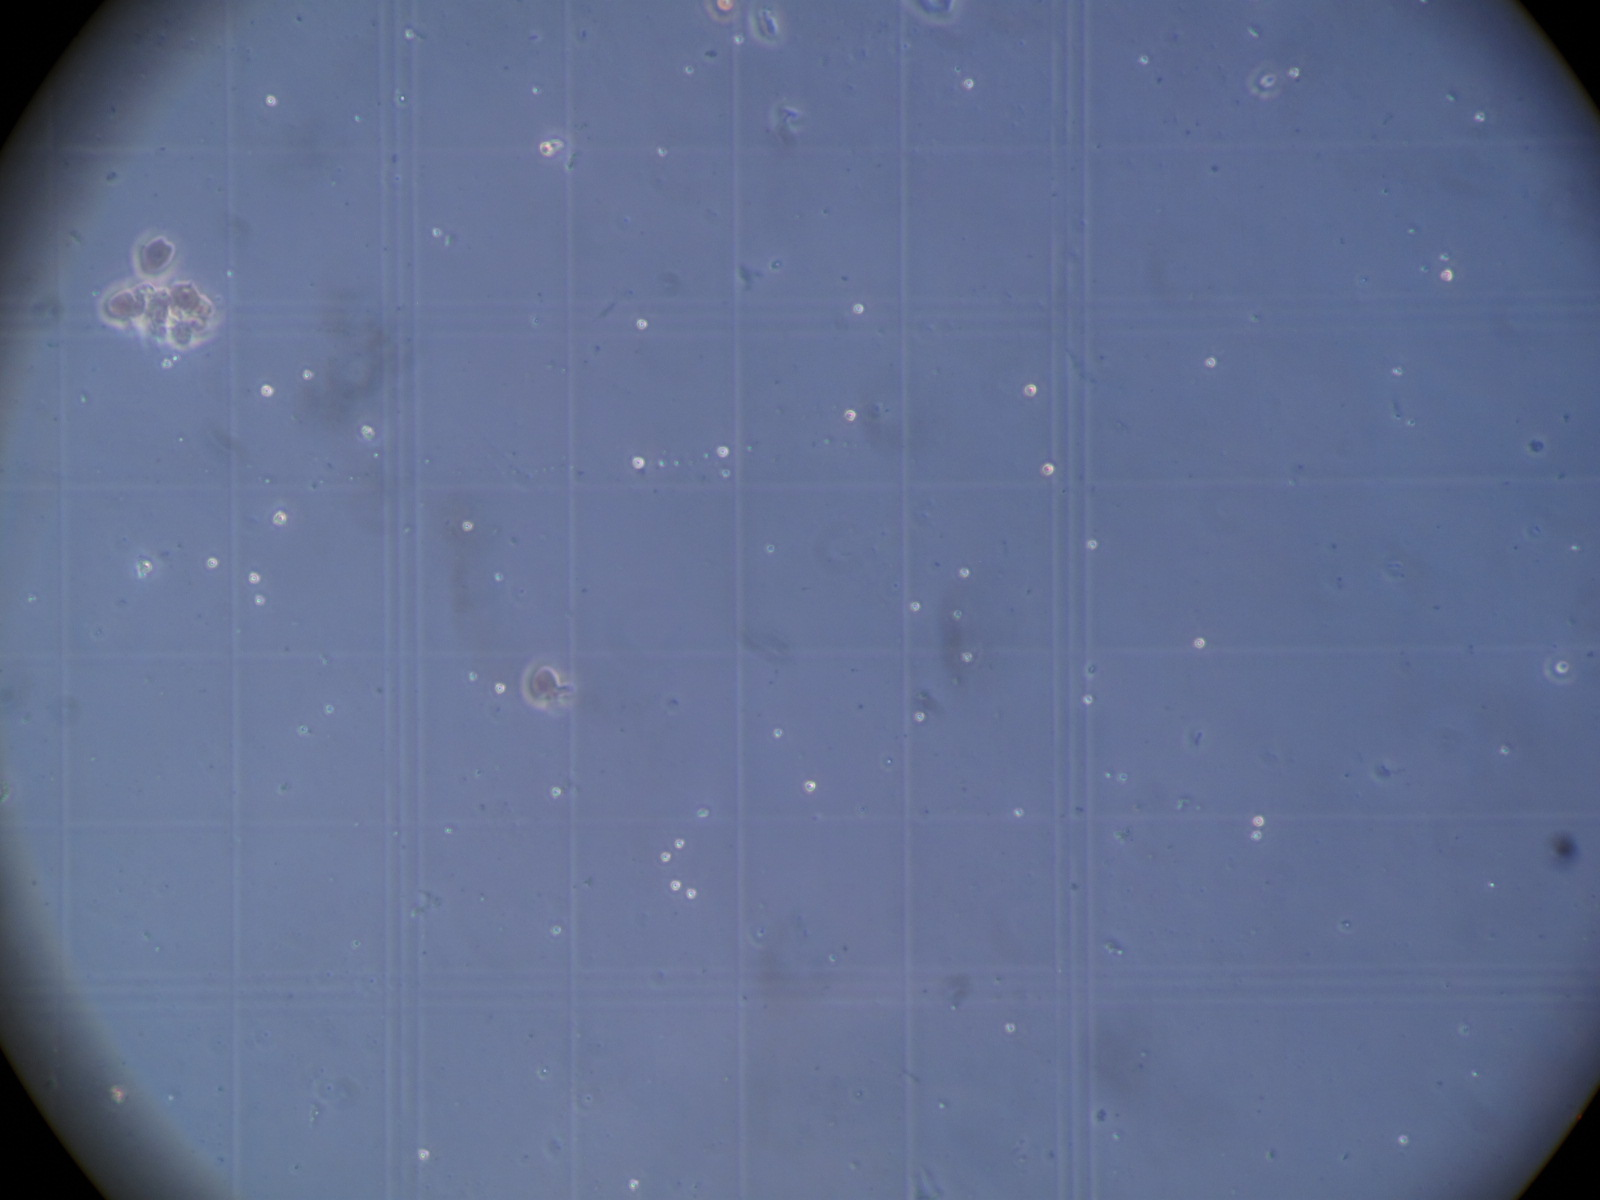virusw: (459, 518, 476, 534), (271, 509, 289, 526), (912, 708, 929, 725), (358, 425, 375, 440), (538, 139, 552, 158), (1471, 108, 1488, 124), (414, 1147, 430, 1162), (1555, 659, 1569, 676), (252, 592, 268, 606), (1249, 829, 1264, 843), (1042, 461, 1056, 476), (666, 879, 682, 892), (850, 303, 866, 316), (1022, 384, 1036, 398), (551, 139, 564, 153), (1440, 268, 1453, 284), (910, 599, 922, 614), (431, 223, 443, 238), (960, 650, 974, 663), (659, 851, 671, 865), (844, 408, 857, 422), (716, 446, 729, 459), (402, 26, 414, 40), (260, 384, 273, 397), (265, 95, 277, 108), (1251, 816, 1266, 827), (805, 780, 816, 795), (1203, 355, 1216, 368), (957, 566, 970, 579), (1013, 807, 1026, 819), (494, 682, 506, 695), (466, 671, 479, 683), (248, 572, 261, 585), (632, 456, 644, 470), (636, 316, 648, 330), (175, 434, 186, 447), (205, 558, 220, 568), (1397, 1134, 1410, 1146), (1290, 67, 1301, 79), (1082, 693, 1094, 706), (952, 610, 965, 621), (733, 34, 746, 45), (656, 146, 669, 158), (494, 572, 506, 584), (160, 358, 173, 369), (1500, 745, 1513, 756), (1193, 638, 1204, 649), (964, 78, 975, 89), (1087, 541, 1099, 552), (772, 729, 784, 740), (551, 787, 562, 798), (684, 64, 695, 76), (397, 93, 408, 105), (629, 1179, 639, 1191), (372, 450, 382, 463), (687, 887, 695, 901), (1004, 1024, 1015, 1034), (552, 925, 562, 937), (539, 1065, 549, 1076), (297, 724, 307, 735), (325, 705, 335, 716), (302, 369, 312, 381), (675, 838, 684, 850), (1488, 880, 1497, 890), (226, 268, 234, 279), (1469, 1071, 1480, 1079), (530, 87, 540, 95)
